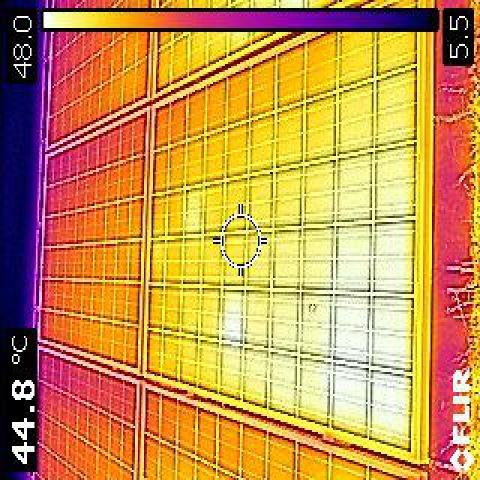fault: (329, 204, 417, 434), (222, 290, 241, 336)
